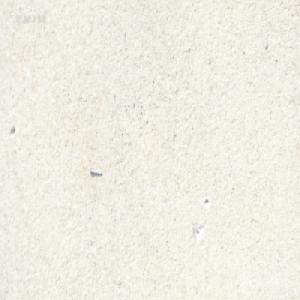Nail: (89, 165, 102, 175)
